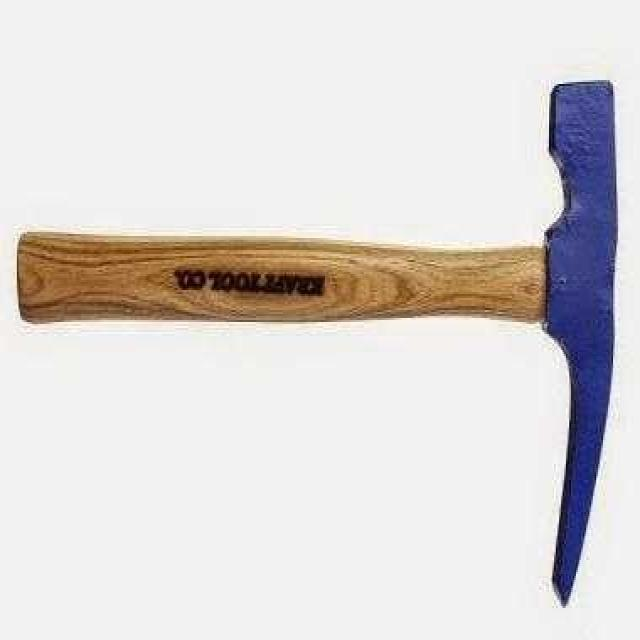hammer: (18, 82, 615, 606)
